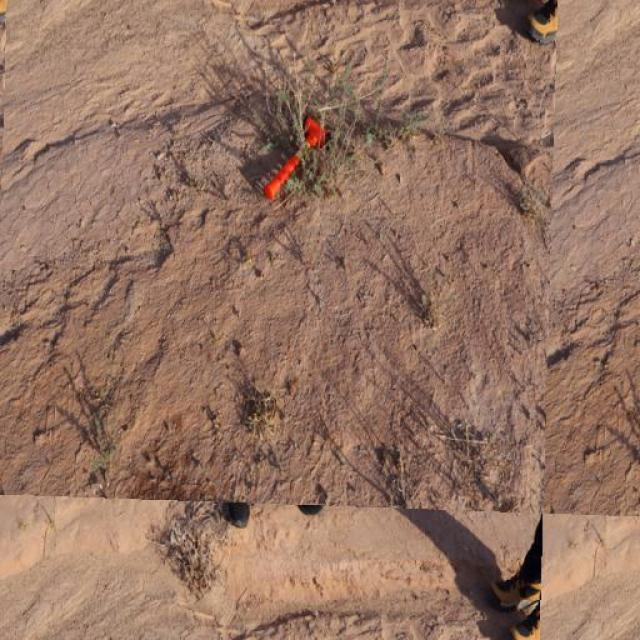mallet: (262, 114, 326, 200)
